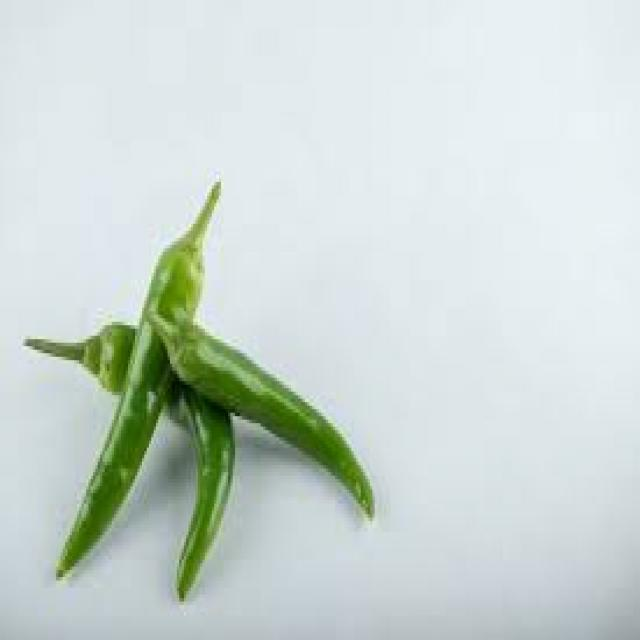green chilli: (58, 185, 220, 580), (150, 313, 374, 520)
